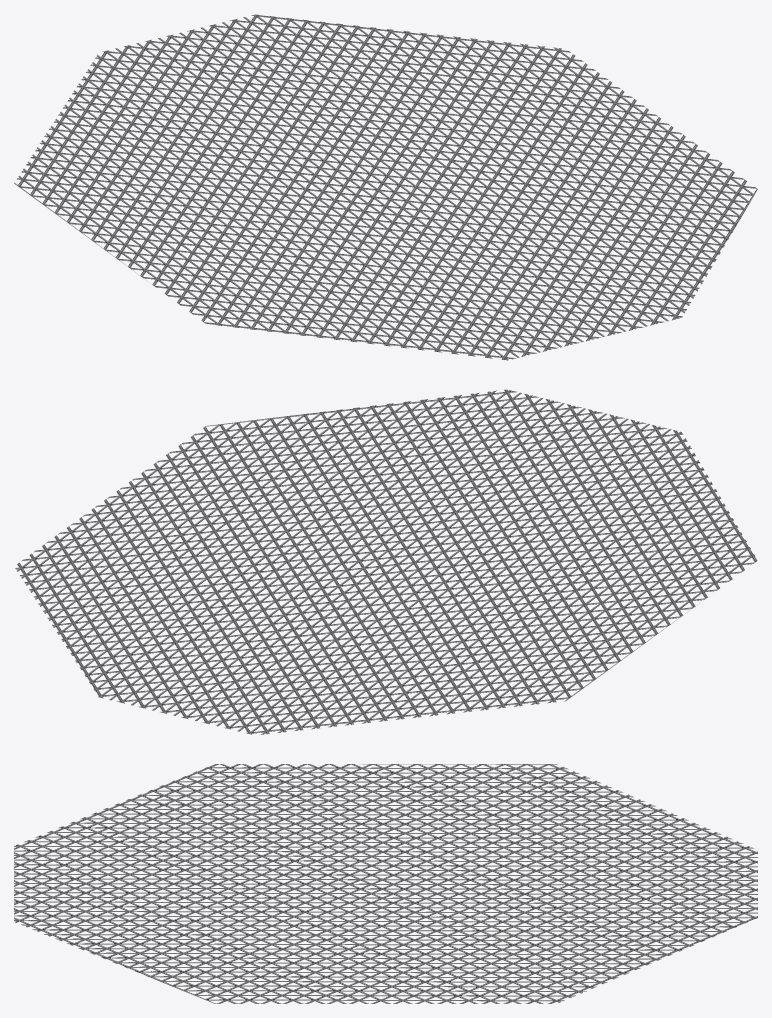
Rendered from FUS0110015.fbx.
3 renders of one model, top to bottom at view 1: azimuth 30°, elevation 25°; view 2: azimuth 150°, elevation 25°; view 3: azimuth 270°, elevation 25°, orthographic. The views are drawn at different scales.
Parts seen in each view (by area): view 1: smFUS0110015; view 2: smFUS0110015; view 3: smFUS0110015.
Part boxes in pixels (left/top/right/bottom): smFUS0110015: left=14, top=14, right=757, bottom=360; smFUS0110015: left=15, top=389, right=757, bottom=734; smFUS0110015: left=14, top=764, right=757, bottom=1003.
Size of the model in its own units: 5841 by 0.000732 by 7652.
1 material, 1 textured.
